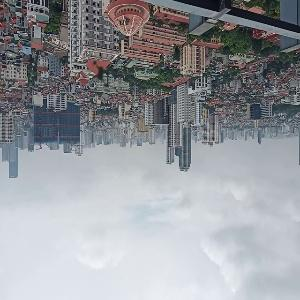drone: (72, 44, 133, 105)
